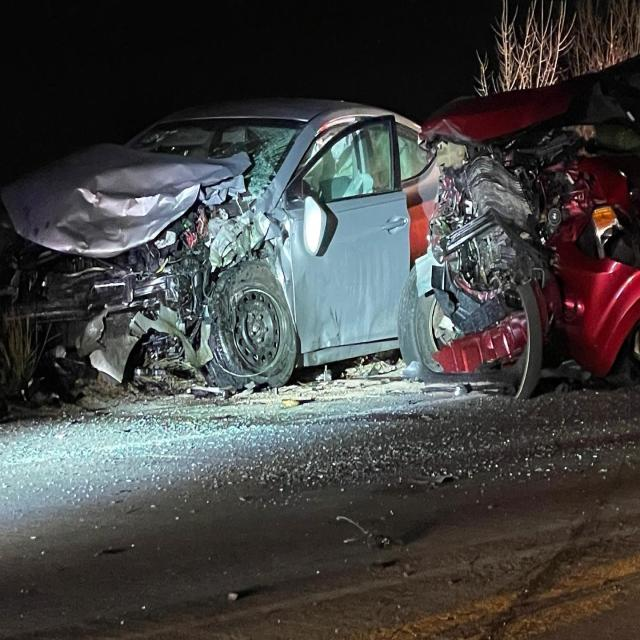Accident: (0, 100, 638, 404)
